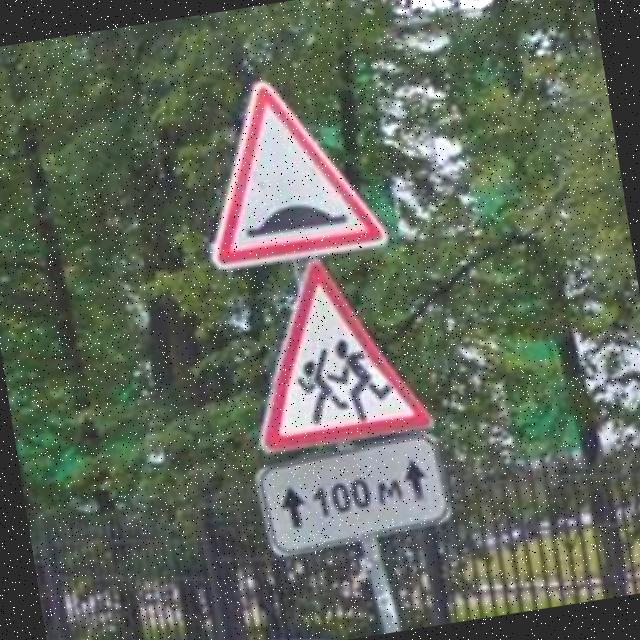Dzieci: (232, 245, 436, 458)
